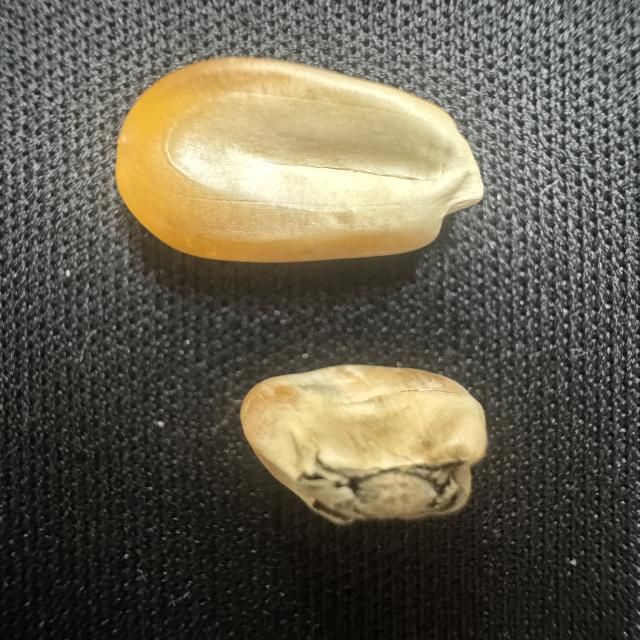Bad-Seed: (231, 353, 504, 528)
Good-Seed: (103, 48, 497, 272)
